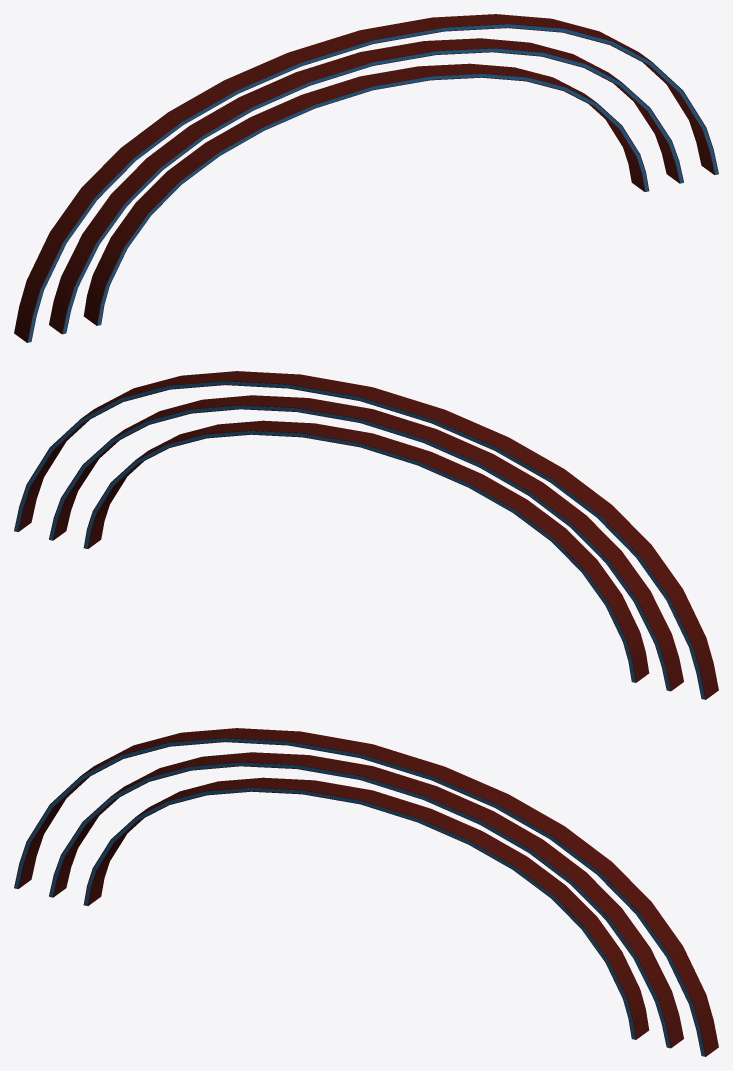
The model's file is W_O_Playground_Deco_001_L0.fbx.
3 renders of one model, top to bottom at view 1: azimuth 30°, elevation 25°; view 2: azimuth 150°, elevation 25°; view 3: azimuth 330°, elevation 25°, orthographic.
Parts seen in each view (by area): view 1: W_O_Playground_Deco_001_L0; view 2: W_O_Playground_Deco_001_L0; view 3: W_O_Playground_Deco_001_L0.
Part boxes in pixels (x1,y1,x2,y2): W_O_Playground_Deco_001_L0: (14,14,718,342); W_O_Playground_Deco_001_L0: (14,371,718,699); W_O_Playground_Deco_001_L0: (14,728,718,1056).
Size of the model in its own units: 29.8 by 9 by 1.
